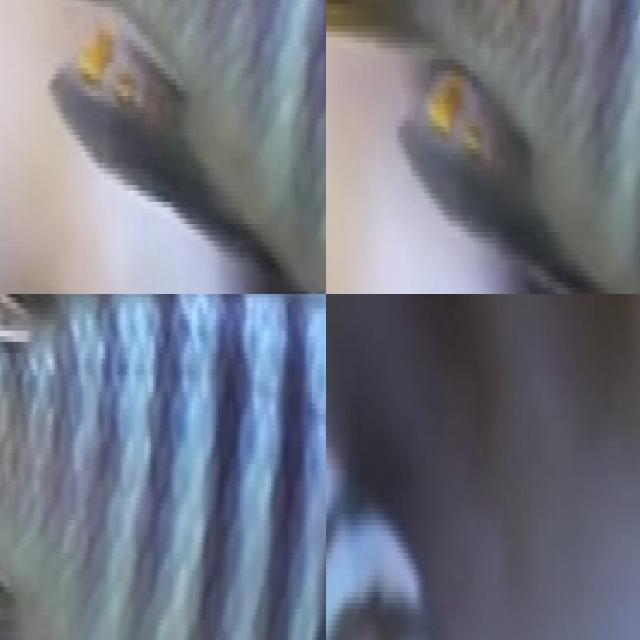fish: (0, 0, 326, 294), (326, 294, 485, 640)
